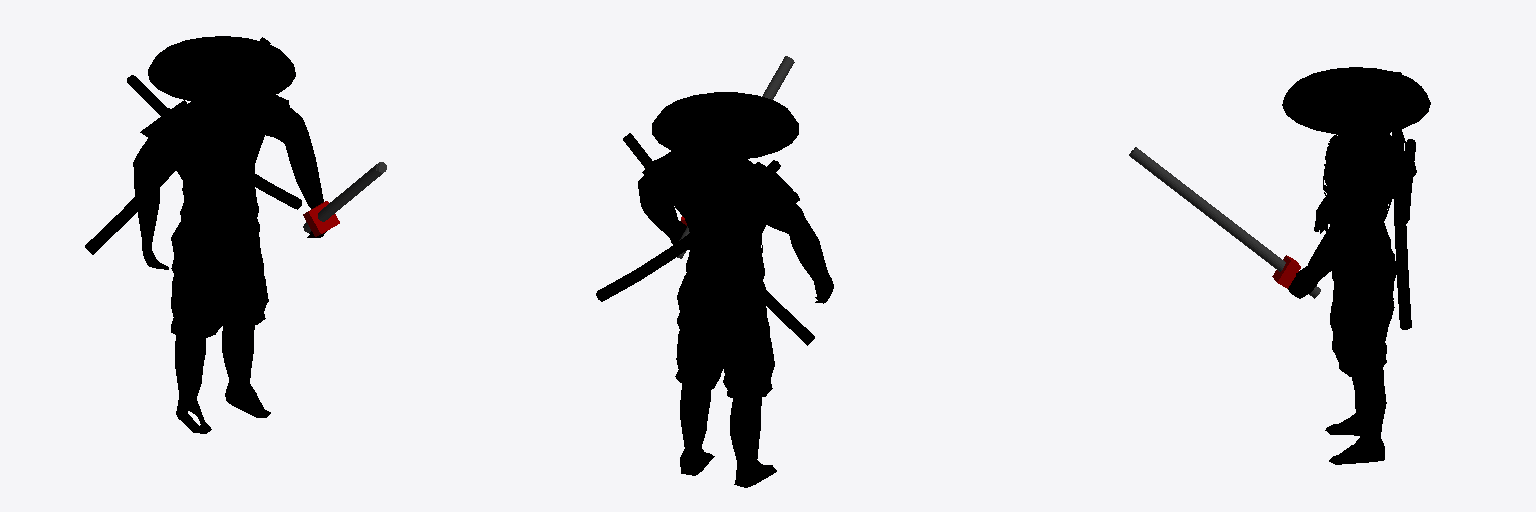
File: ThirdStand.obj
3 views of the same model, side by side, from view 1: azimuth 30°, elevation 25°; view 2: azimuth 150°, elevation 25°; view 3: azimuth 270°, elevation 25° (orthographic).
Parts seen in each view (by area): view 1: group pasted__polySurface72 polySurface2 polySurface3 polySurfac, pCylinder1 polySurface1, pCube1 polySurface1; view 2: group pasted__polySurface72 polySurface2 polySurface3 polySurfac, pCylinder1 polySurface1; view 3: group pasted__polySurface72 polySurface2 polySurface3 polySurfac, pCylinder1 polySurface1.
Boxes of the visible parts, x1,y1,x2,y2 form: group pasted__polySurface72 polySurface2 polySurface3 polySurfac: [85, 36, 326, 433]; pCylinder1 polySurface1: [303, 162, 386, 232]; pCube1 polySurface1: [303, 201, 339, 236]; group pasted__polySurface72 polySurface2 polySurface3 polySurfac: [596, 92, 833, 487]; pCylinder1 polySurface1: [677, 56, 794, 258]; group pasted__polySurface72 polySurface2 polySurface3 polySurfac: [1282, 67, 1430, 464]; pCylinder1 polySurface1: [1129, 147, 1320, 298].
Size of the model in its own units: 0.8013 by 1.33 by 0.9696.